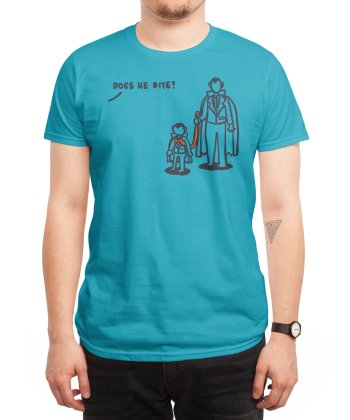design: (104, 75, 242, 177)
